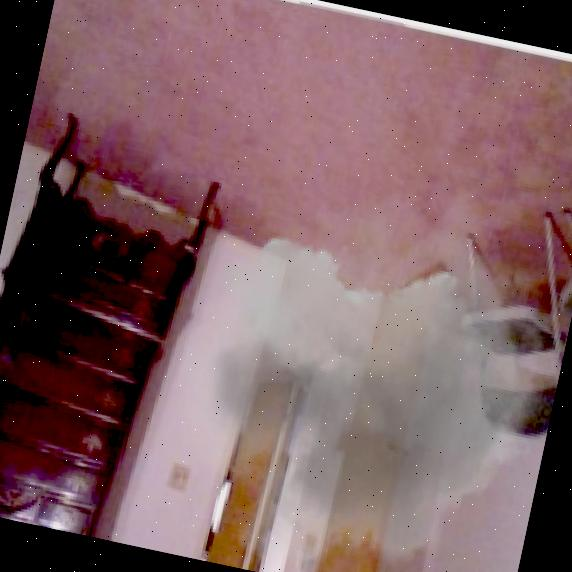smoke: (139, 137, 572, 572)
